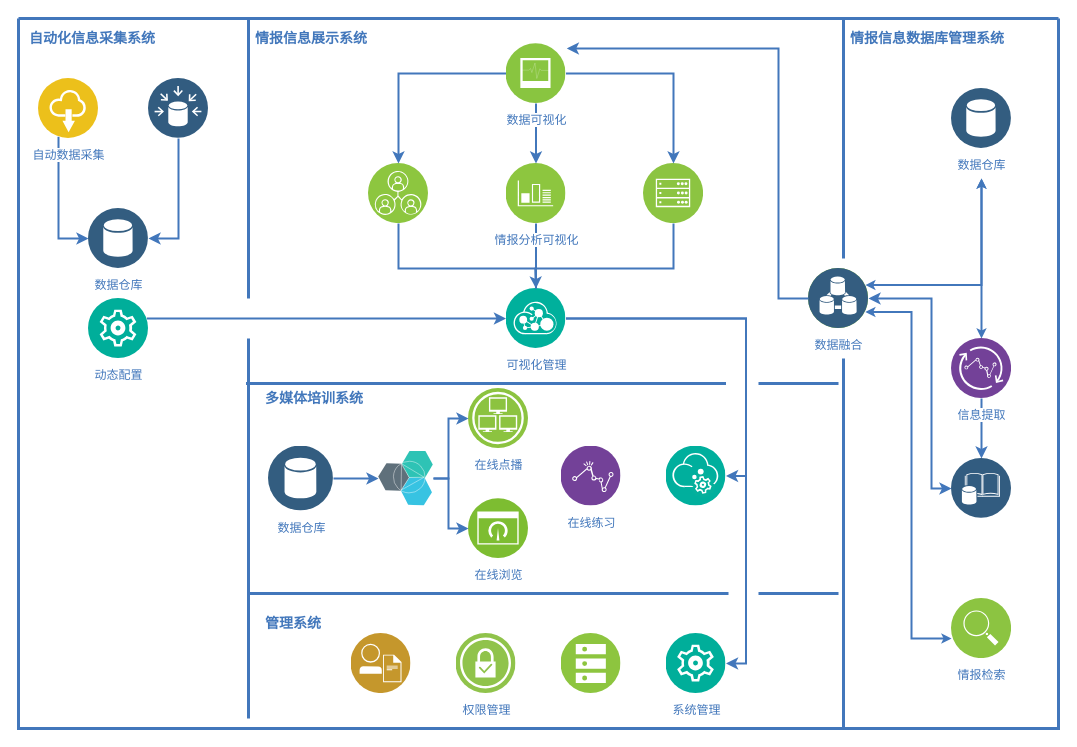
The diagram is 1077 pixels wide and 747 high, and some of its shapes have lost their labels. Here are the shapes that lost their labels. From the top down, the centre of each, then its label:
[178,108]: 增量爬取
[398,193]: 系统状态可视化
[673,193]: 标注结果可视化
[405,478]: 转换编码
[696,476]: 资源管理
[981,488]: 情报分析
[380,663]: 用户管理
[590,663]: 日志管理
